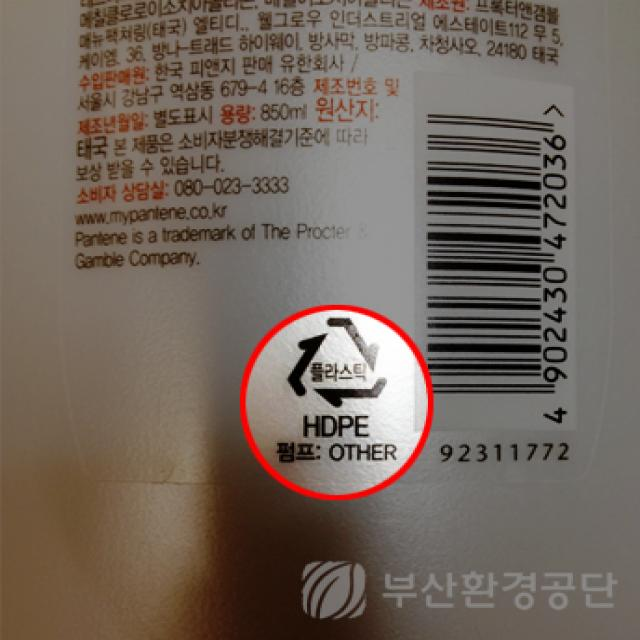Plastic: (285, 313, 391, 410)
